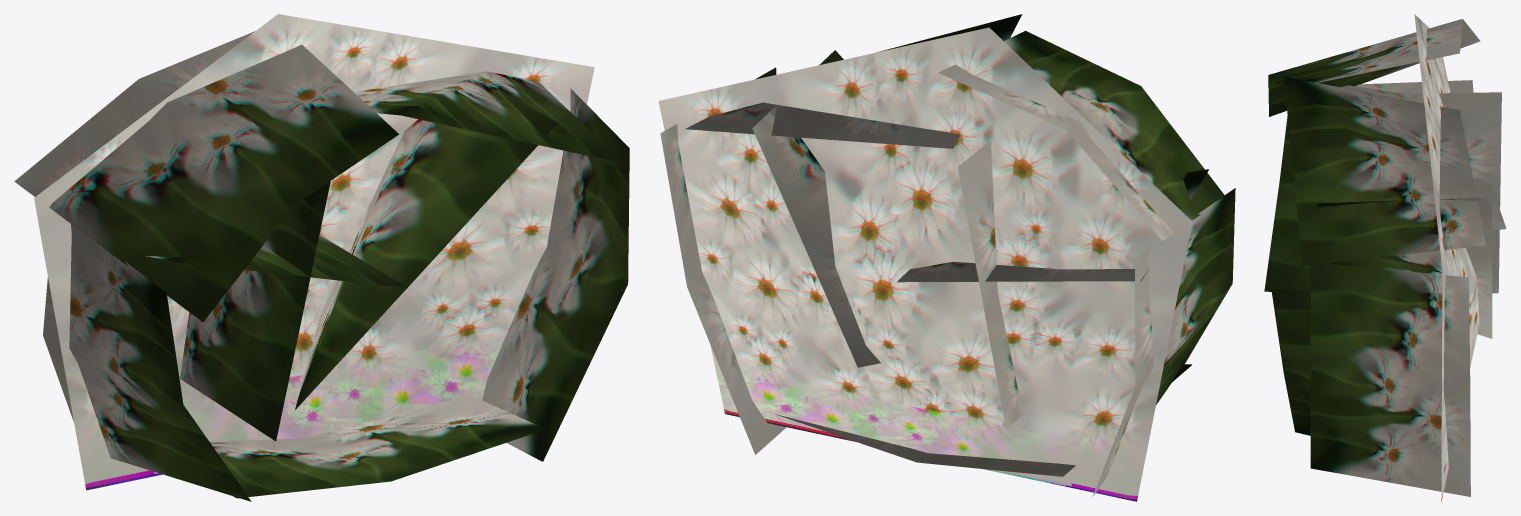
File: Daisies_vcta.fbx
3 renders of one model, left to right at view 1: azimuth 30°, elevation 25°; view 2: azimuth 150°, elevation 25°; view 3: azimuth 270°, elevation 25°, orthographic. The views are drawn at different scales.
Parts seen in each view (by area): view 1: Daisies; view 2: Daisies; view 3: Daisies.
Part boxes in pixels (left/top/right/bottom): Daisies: left=14, top=14, right=629, bottom=501; Daisies: left=658, top=14, right=1235, bottom=501; Daisies: left=1264, top=14, right=1506, bottom=501.
Size of the model in its own units: 1.75 by 1.43 by 0.7885.
